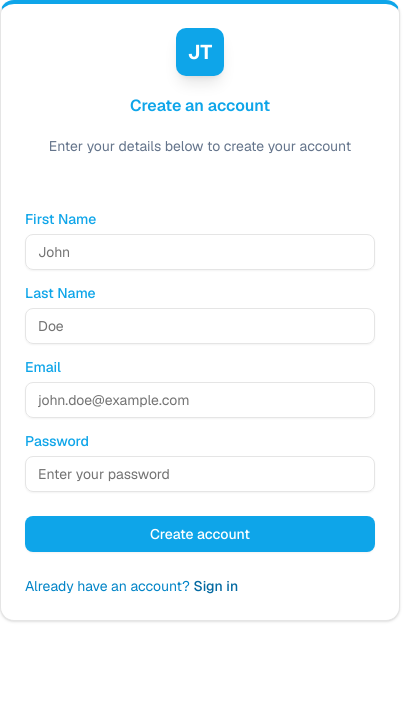
it: RegisterForm › should display validation error for short password
The width and height of the screenshot is (417, 720).
Type "123" into the password field labelled "Password" at (200, 474), box [25,456,375,492]
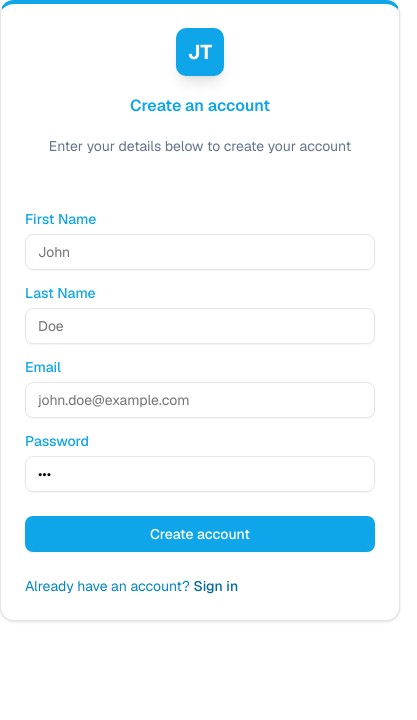
Click the button "Create account" at (200, 534), box [25,516,375,552]
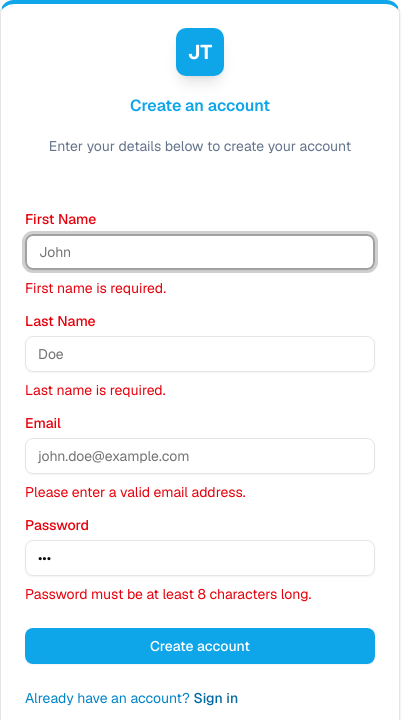
Result: the text "Password must be at least 8 characters long." is shown at [25,585,311,603]
